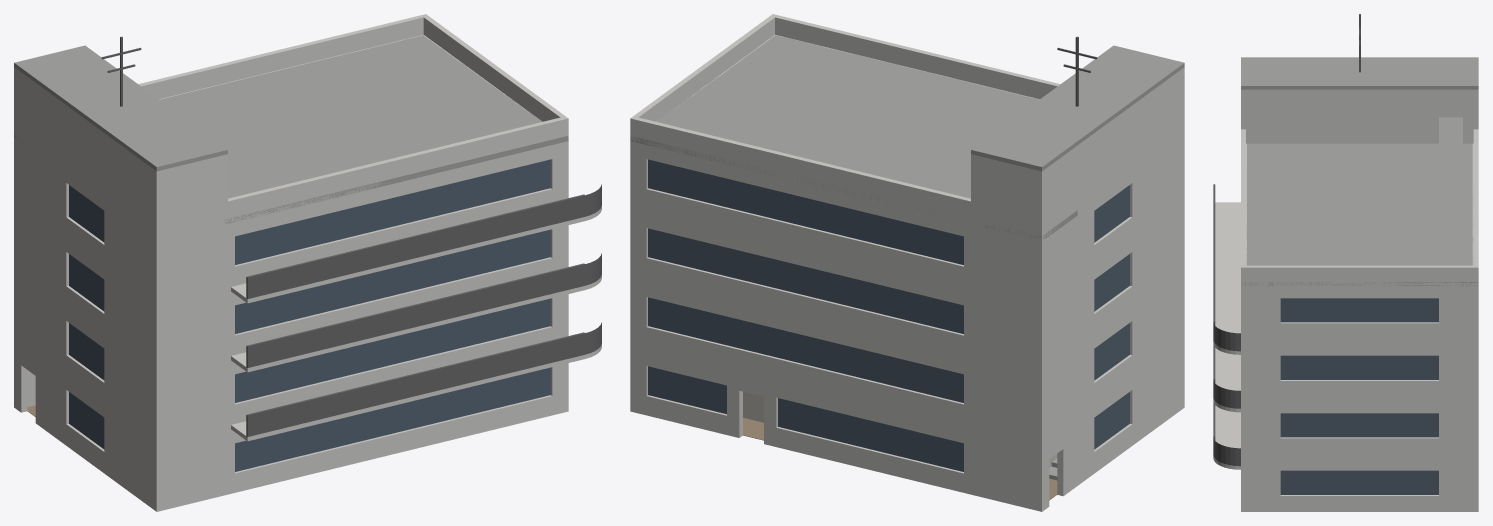
Rendered from apartment.lod0.glb.
3 views of the same model, side by side, from view 1: azimuth 30°, elevation 25°; view 2: azimuth 150°, elevation 25°; view 3: azimuth 270°, elevation 25° (orthographic). The views are drawn at different scales.
Visible parts, largest first — view 1: apartment; view 2: apartment; view 3: apartment.
Boxes of the visible parts, left/top/right/bottom form: apartment: left=14, top=14, right=601, bottom=511; apartment: left=630, top=14, right=1184, bottom=511; apartment: left=1213, top=14, right=1478, bottom=511.
Size of the model in its own units: 21.4 by 19.2 by 13.4.
